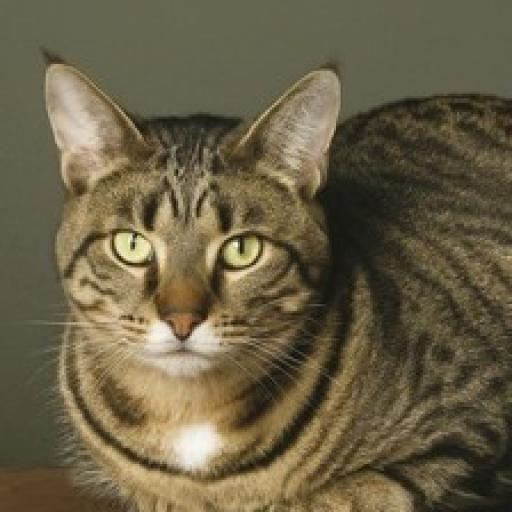cat: (23, 39, 510, 512)
